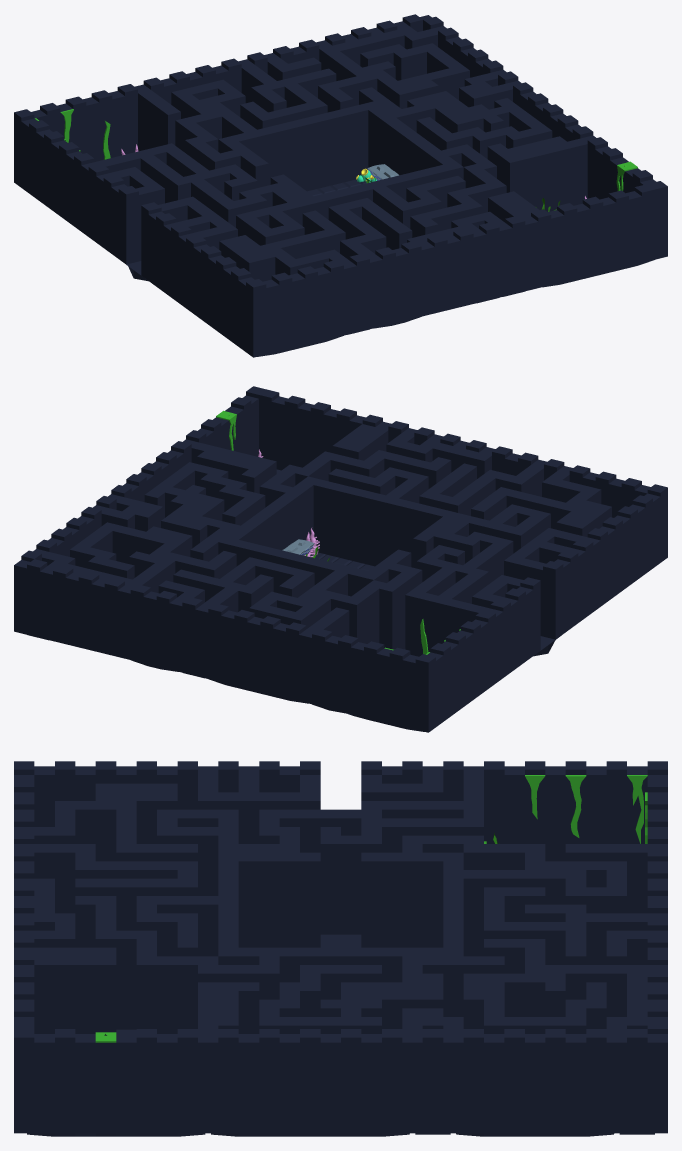
Rendered from Labyrinth.fbx.
3 renders of one model, top to bottom at view 1: azimuth 30°, elevation 25°; view 2: azimuth 150°, elevation 25°; view 3: azimuth 270°, elevation 25°, orthographic. The views are drawn at different scales.
Parts seen in each view (by area): view 1: Plane; view 2: Plane; view 3: Plane.
Part boxes in pixels (bbox=[...]): Plane: bbox=[14, 14, 667, 357]; Plane: bbox=[14, 386, 667, 732]; Plane: bbox=[14, 761, 667, 1136].
Size of the model in its own units: 16174 by 2932 by 16174.
